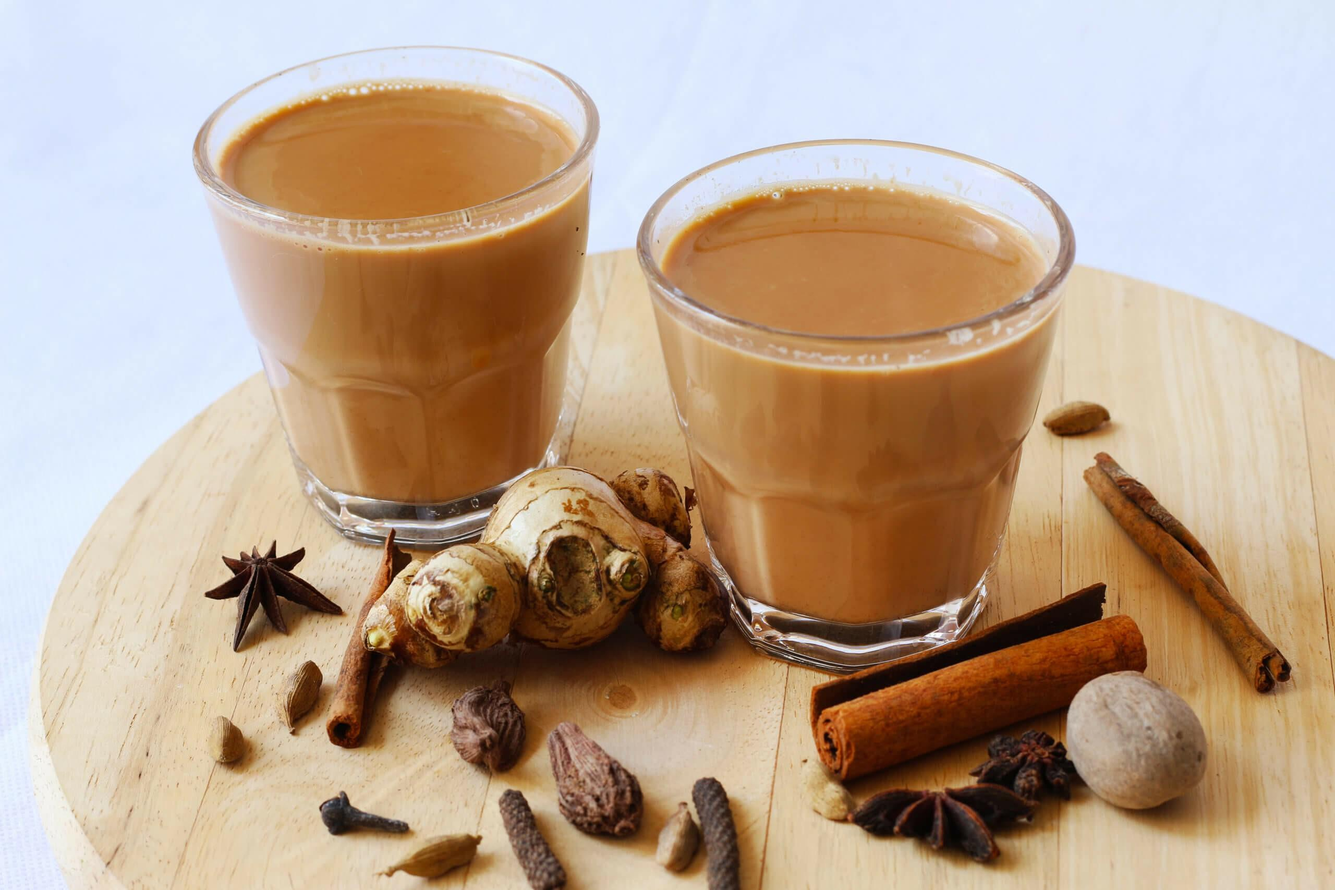Chai: (662, 184, 1050, 619), (218, 80, 593, 503)
